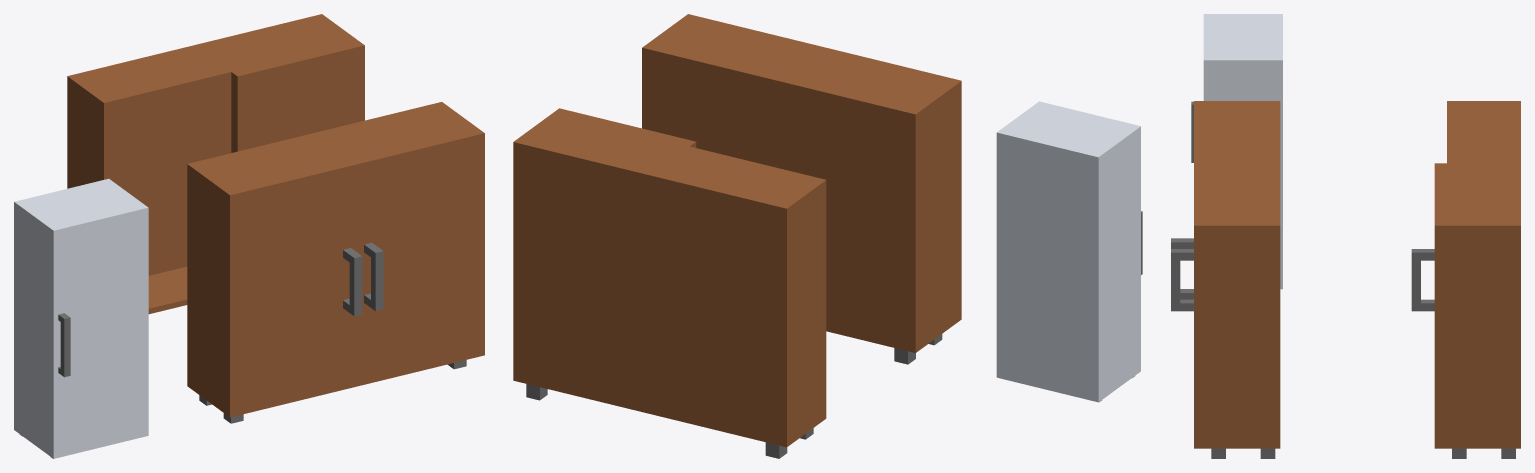
The model's file is ContainerFurnitures.fbx.
The picture shows the model from 3 angles, left to right: view 1: azimuth 30°, elevation 25°; view 2: azimuth 150°, elevation 25°; view 3: azimuth 270°, elevation 25°; orthographic projection. The views are drawn at different scales.
Parts seen in each view (by area): view 1: Cabinet, Cabinet.001, Fridge; view 2: Cabinet.001, Cabinet, Fridge; view 3: Cabinet, Cabinet.001, Fridge.
Part boxes in pixels (x1,y1,x2,y2): Cabinet: [187, 102, 484, 423]; Cabinet.001: [67, 14, 364, 314]; Fridge: [14, 178, 148, 458]; Cabinet.001: [513, 108, 826, 458]; Cabinet: [642, 14, 961, 364]; Fridge: [996, 101, 1142, 402]; Cabinet: [1171, 101, 1280, 458]; Cabinet.001: [1411, 101, 1520, 458]; Fridge: [1191, 14, 1282, 289].
Size of the model in its own units: 803 by 432 by 569.
